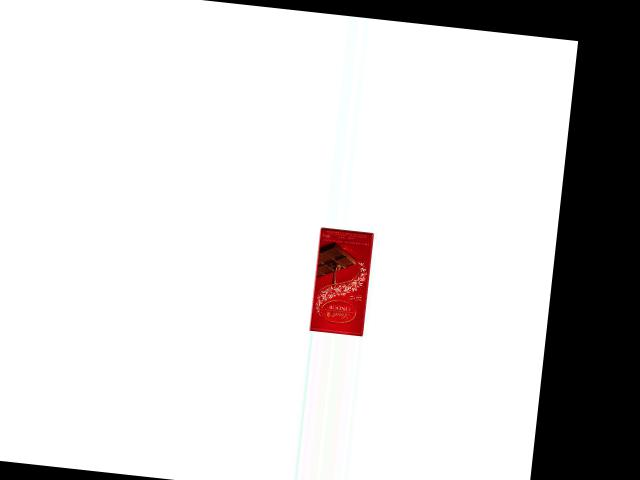chocolate: (304, 227, 375, 336)
